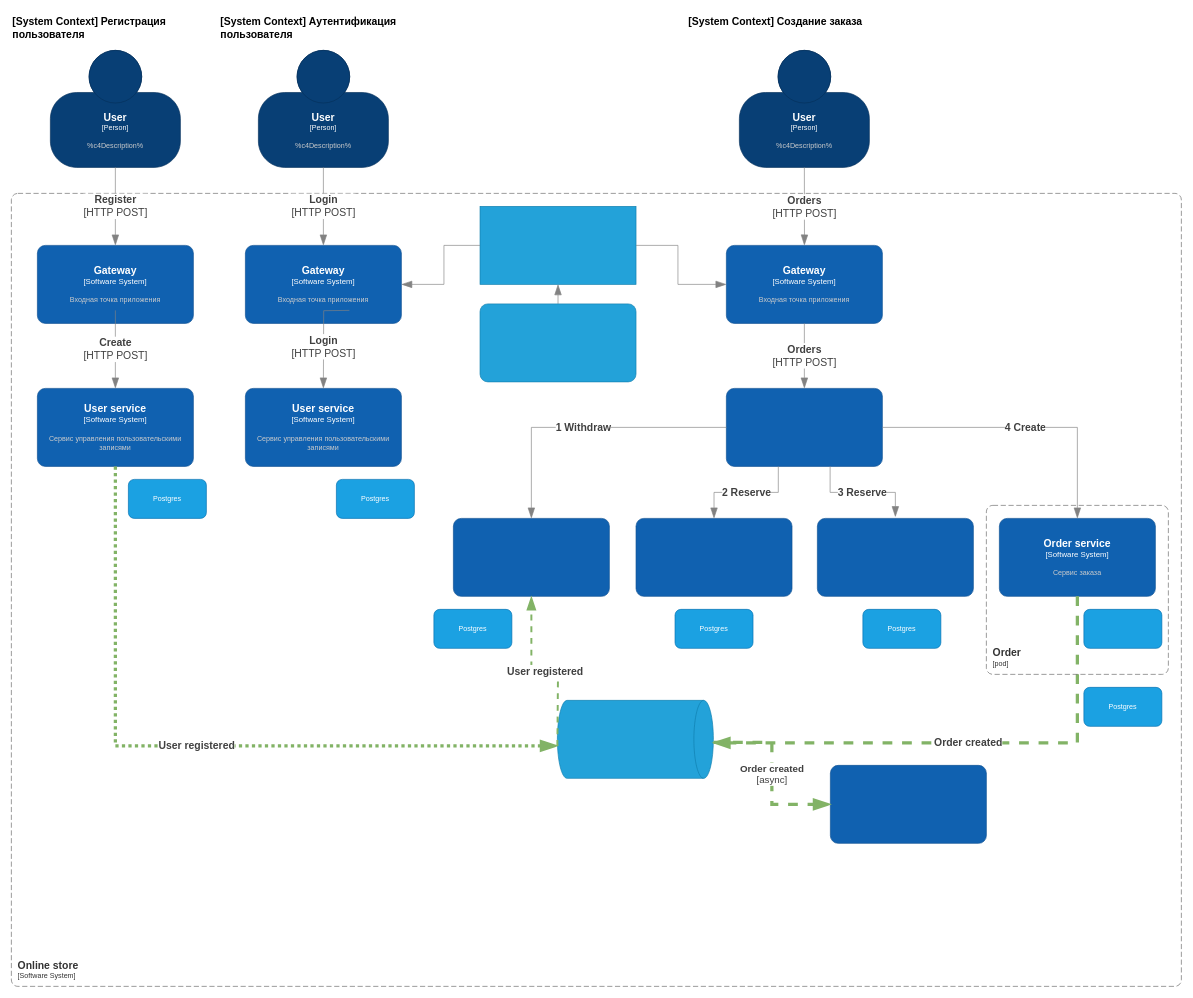
Some shapes in this 1193 by 998 pixel diagram are drawn without their labels. Each missing label, with the box of its shape:
Billing service [Software System] Сервис управления оплатой: (453, 518, 609, 596)
Delivery service [Software System] Сервис управления доставкой: (635, 518, 792, 596)
Grafana [Container: Grafana]: (479, 303, 636, 382)
Memcached sidecar: (1083, 609, 1162, 648)
Message broker [Container: Apache Kafka]: (557, 700, 713, 778)
Notification service [Software System] Сервис уведомлений: (830, 765, 986, 843)
Orchestrator [Software System] Сервис управления сагой заказа: (726, 388, 882, 466)
Prometheus [Container: Prometheus] Metric crawler: (479, 206, 636, 284)
Warehouse service [Software System] Сервис контроля продуктовых остатков: (817, 518, 973, 596)
